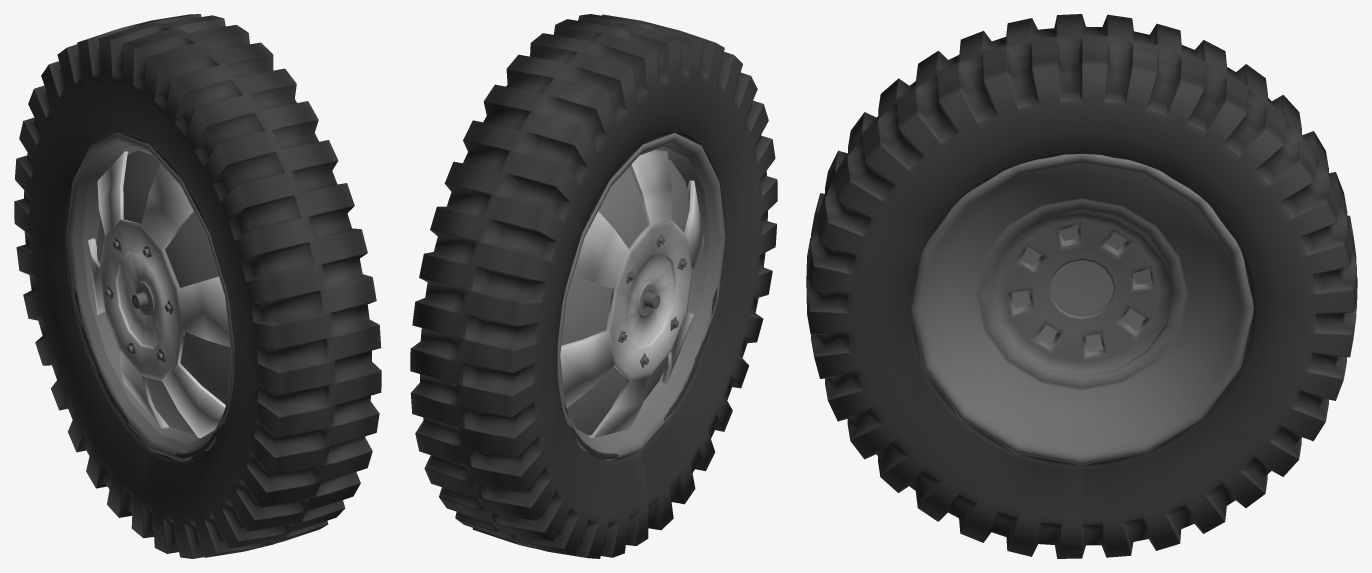
File: OT_wheel_front.obj
The picture shows the model from 3 angles, left to right: view 1: azimuth 30°, elevation 25°; view 2: azimuth 150°, elevation 25°; view 3: azimuth 270°, elevation 25°; orthographic projection. The views are drawn at different scales.
Bounding box in the file's own units: 0.2515 × 0.9896 × 0.9895.
1 material, 1 textured.
